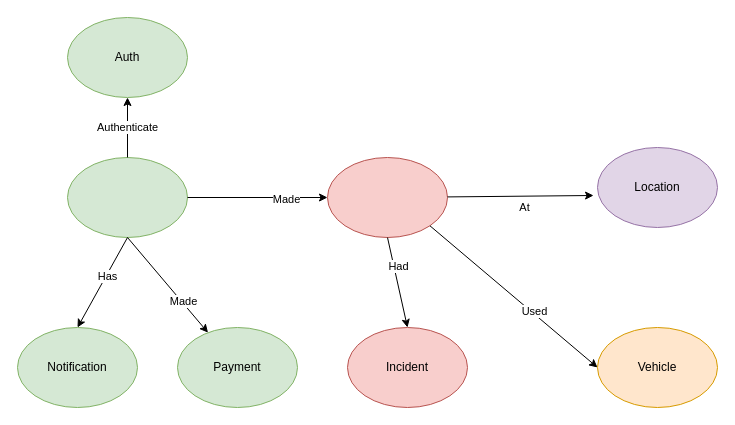
The diagram is 735 pixels wide and 425 high, and some of its shapes have lost their labels. The shapes that lost their labels are listed below. From the top down, each one's centre as x and y in pixels, then its label:
pixel 127 197: User
pixel 387 197: Trip
